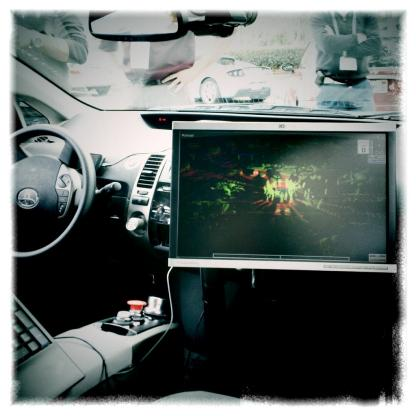Car: (9, 55, 413, 413), (188, 52, 274, 104), (70, 46, 117, 95)
